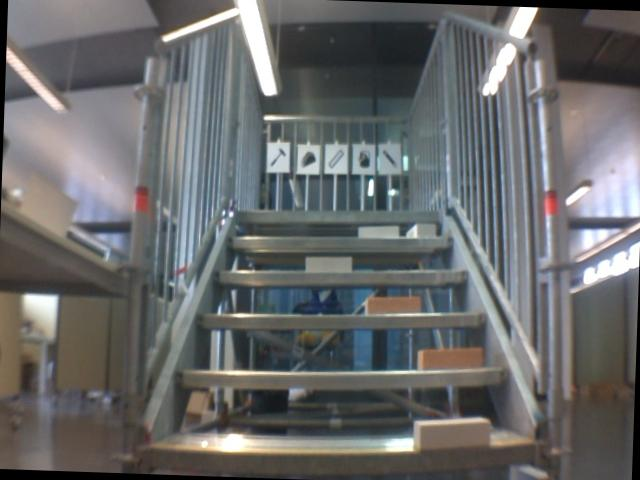brick: (412, 416, 488, 449), (416, 345, 481, 370), (365, 295, 418, 316), (304, 255, 351, 273), (359, 225, 398, 237), (407, 224, 435, 239)
bucket: (356, 148, 374, 170)
edge: (150, 430, 539, 480), (174, 358, 511, 396), (195, 303, 484, 334), (213, 263, 469, 289), (228, 228, 452, 255), (236, 204, 444, 227)
hammer: (267, 146, 288, 168)
pencil: (380, 147, 400, 170)
ruler: (326, 147, 345, 171)
stairs: (106, 7, 577, 480)
steps: (143, 199, 551, 480)
taco: (298, 147, 319, 169)
